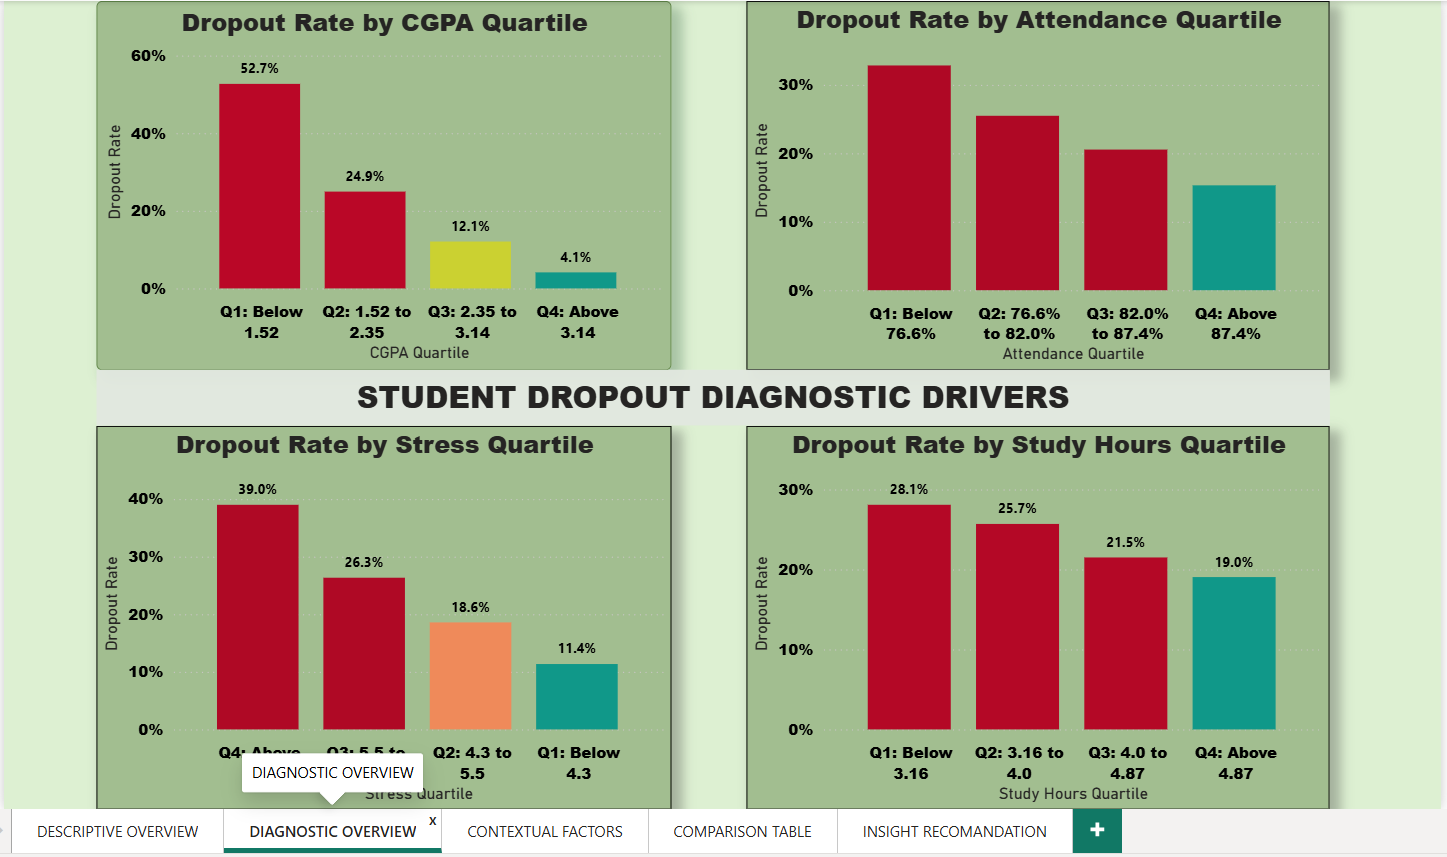

This screenshot's page, from the dashboard's own definition file:
{"tool":"powerbi","page":{"name":"DIAGNOSTIC OVERVIEW","canvas":[1280,720],"ordinal":1},"visuals":[{"type":"clusteredColumnChart","fields":{"Category":["STUDENTS.CGPA Quartile"],"Y":["STUDENTS.Dropout Rate"]},"box":[82.7,0,511.6,328.8],"z":0},{"type":"clusteredColumnChart","fields":{"Category":["STUDENTS.Stress Quartile"],"Y":["STUDENTS.Dropout Rate"]},"box":[82.7,378.4,511.6,341.4],"z":1000},{"type":"clusteredColumnChart","fields":{"Category":["STUDENTS.Attendance Quartile"],"Y":["STUDENTS.Dropout Rate"]},"box":[661.4,0,519.4,328.8],"z":2000},{"type":"clusteredColumnChart","fields":{"Category":["STUDENTS.Study Hours Quartile"],"Y":["STUDENTS.Dropout Rate"]},"box":[661.4,378.4,519.4,341.4],"z":3000},{"type":"textbox","box":[82.7,328.8,1098.1,49.6],"z":4000}]}

Visuals, with their boxes on the page's 1280x720 design canvas (x1, y1, x2, y2). These are canvas units, not pixel positions in the 1447x857 screenshot, which may show the page scaled, cropped or inside an application window:
clusteredColumnChart - STUDENTS.CGPA Quartile x STUDENTS.Dropout Rate: (left=83, top=0, right=594, bottom=329)
clusteredColumnChart - STUDENTS.Stress Quartile x STUDENTS.Dropout Rate: (left=83, top=378, right=594, bottom=720)
clusteredColumnChart - STUDENTS.Attendance Quartile x STUDENTS.Dropout Rate: (left=661, top=0, right=1181, bottom=329)
clusteredColumnChart - STUDENTS.Study Hours Quartile x STUDENTS.Dropout Rate: (left=661, top=378, right=1181, bottom=720)
textbox: (left=83, top=329, right=1181, bottom=378)
